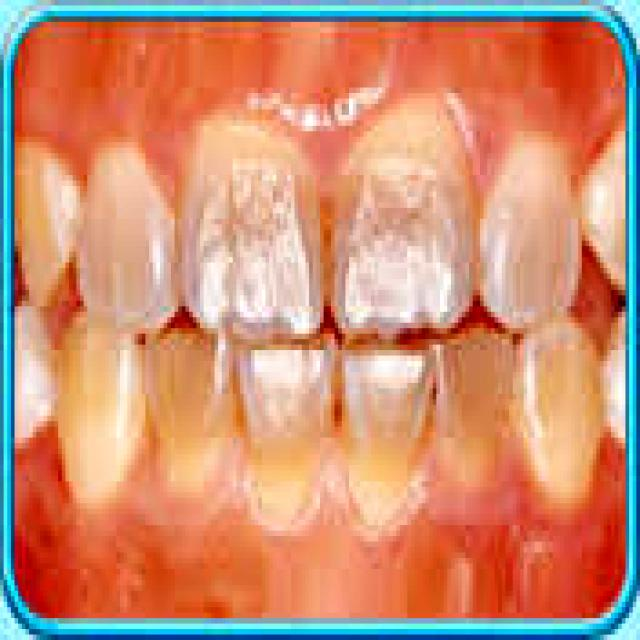tooth-discoloration: (335, 98, 473, 334), (182, 115, 320, 334), (145, 328, 215, 465), (342, 350, 429, 443), (236, 350, 327, 432)
